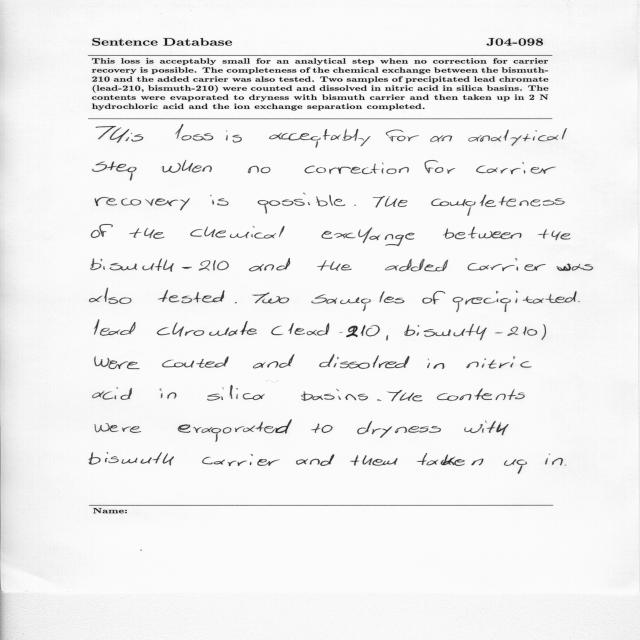word: (431, 195, 565, 216), (452, 291, 580, 312), (178, 420, 292, 442), (404, 324, 537, 340), (91, 258, 229, 272), (269, 129, 370, 148), (312, 291, 405, 311), (258, 193, 346, 214), (468, 128, 567, 146), (322, 227, 415, 246), (157, 321, 257, 337), (357, 421, 441, 438), (319, 354, 410, 369), (288, 323, 380, 337), (304, 162, 409, 174), (95, 197, 190, 210), (437, 388, 525, 401), (191, 226, 285, 238), (89, 453, 174, 466), (468, 258, 546, 271), (476, 162, 556, 174), (443, 227, 522, 239), (202, 454, 280, 466), (207, 385, 265, 401), (93, 161, 137, 181), (158, 290, 225, 303), (417, 453, 484, 466), (467, 356, 532, 369), (162, 356, 229, 368), (301, 389, 368, 401), (97, 126, 144, 143), (385, 259, 448, 271), (89, 288, 132, 304), (95, 320, 136, 336), (162, 160, 212, 173), (176, 124, 214, 141), (464, 421, 509, 435), (253, 355, 295, 369), (95, 356, 140, 369), (249, 259, 290, 272), (351, 455, 398, 466), (93, 387, 132, 400), (95, 423, 141, 433), (296, 454, 334, 466), (252, 292, 289, 304), (425, 160, 456, 174), (129, 228, 165, 239), (317, 260, 352, 271), (388, 390, 423, 401), (373, 196, 407, 207), (538, 229, 571, 240), (504, 459, 527, 474), (91, 224, 113, 238), (423, 291, 446, 304), (557, 263, 593, 271), (545, 454, 566, 466), (386, 130, 406, 142), (311, 423, 333, 433), (210, 195, 229, 206), (226, 131, 242, 143), (427, 358, 444, 369), (160, 388, 177, 399), (430, 135, 452, 142), (248, 166, 270, 173), (271, 326, 283, 335), (541, 324, 546, 340), (407, 135, 419, 141), (386, 336, 389, 341), (377, 399, 381, 401), (354, 204, 356, 206), (235, 302, 237, 303)
